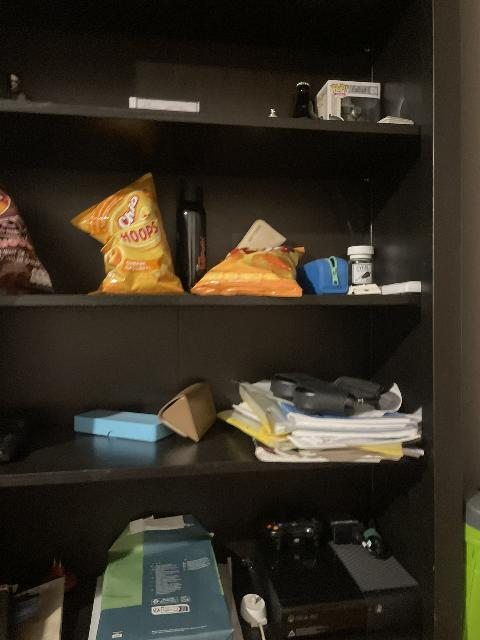Chio Cascaval 125g: (191, 219, 307, 297)
Chio Hula Hoops Cheese 70g: (72, 172, 187, 296)
Lays Beef Grilled Ribs 125g: (0, 180, 55, 295)
